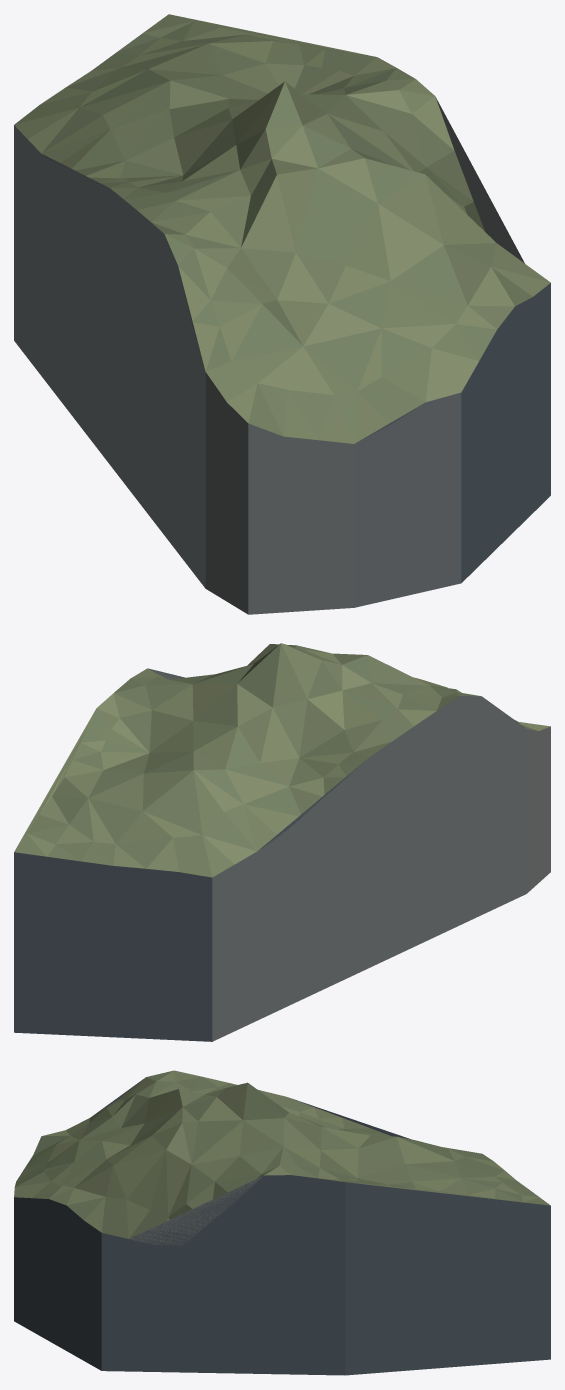
Rendered from cliff_western_slab.glb.
3 renders of one model, top to bottom at view 1: azimuth 30°, elevation 25°; view 2: azimuth 150°, elevation 25°; view 3: azimuth 270°, elevation 25°, orthographic. The views are drawn at different scales.
Visible parts, largest first — view 1: cliff_western_slab; view 2: cliff_western_slab; view 3: cliff_western_slab.
Boxes of the visible parts, <box> form: cliff_western_slab: <box>14,14,550,614</box>; cliff_western_slab: <box>14,643,550,1041</box>; cliff_western_slab: <box>14,1070,550,1375</box>.
Bounding box in the file's own units: 83.51 × 80 × 162.
